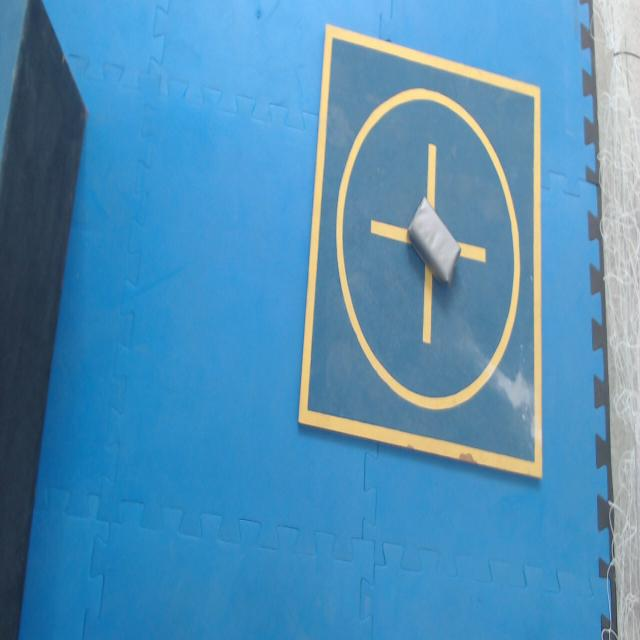esquerda: (408, 197, 460, 283)
